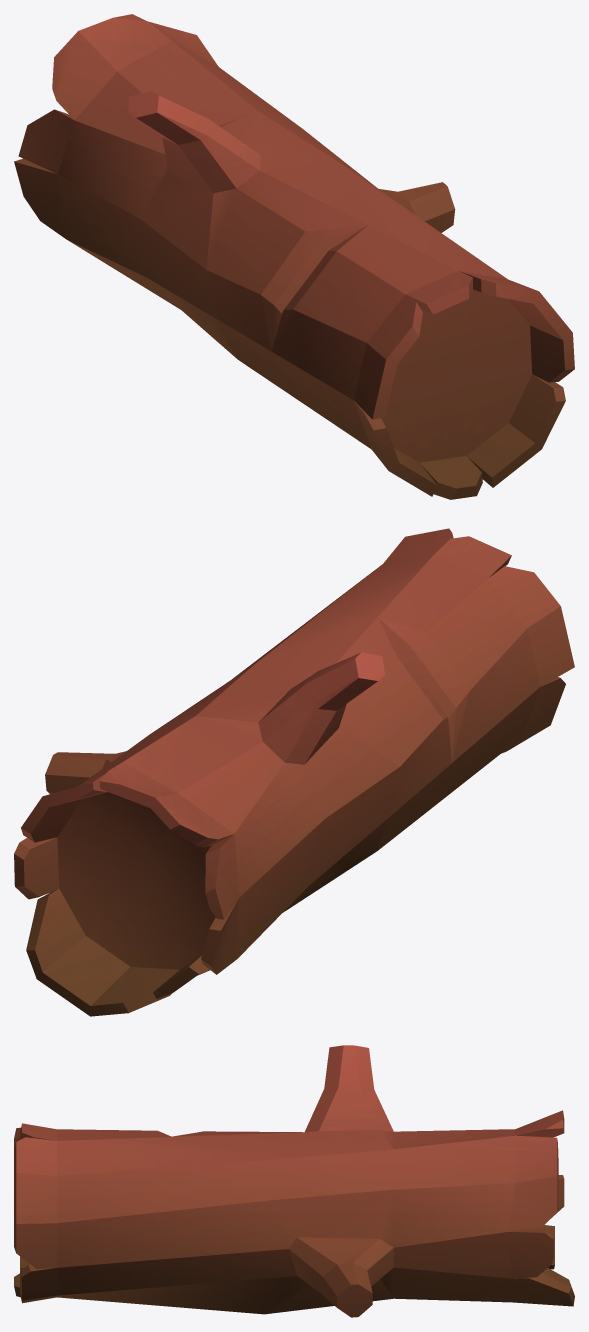
The picture shows the model from 3 angles, top to bottom: view 1: azimuth 30°, elevation 25°; view 2: azimuth 150°, elevation 25°; view 3: azimuth 270°, elevation 25°; orthographic projection. The views are drawn at different scales.
Visible parts, largest first — view 1: TreeTrunk1; view 2: TreeTrunk1; view 3: TreeTrunk1.
Part boxes in pixels (box(x1,y1,x2,y2)): TreeTrunk1: box(14, 14, 574, 499); TreeTrunk1: box(14, 528, 574, 1016); TreeTrunk1: box(14, 1045, 574, 1317).
Size of the model in its own units: 1.45 by 1.21 by 2.87.
Materials: 1 (1 with a texture image).
